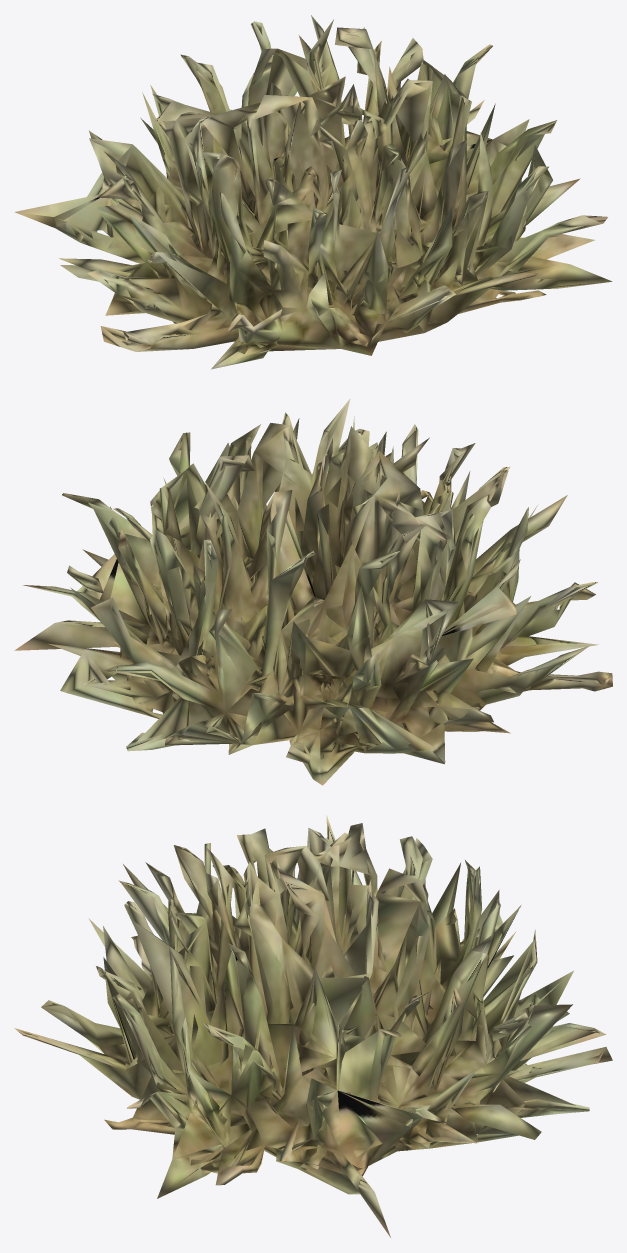
File: Pflanze 2 v1.glb
3 views of the same model, one above another, from view 1: azimuth 30°, elevation 25°; view 2: azimuth 150°, elevation 25°; view 3: azimuth 270°, elevation 25° (orthographic). The views are drawn at different scales.
Visible parts, largest first — view 1: Mesh1; view 2: Mesh1; view 3: Mesh1.
Part boxes in pixels (bbox=[...]): Mesh1: bbox=[14, 15, 612, 369]; Mesh1: bbox=[14, 399, 612, 785]; Mesh1: bbox=[14, 815, 612, 1237].
Size of the model in its own units: 1.95 by 0.8558 by 1.87.
Materials: 1 (1 with a texture image).
